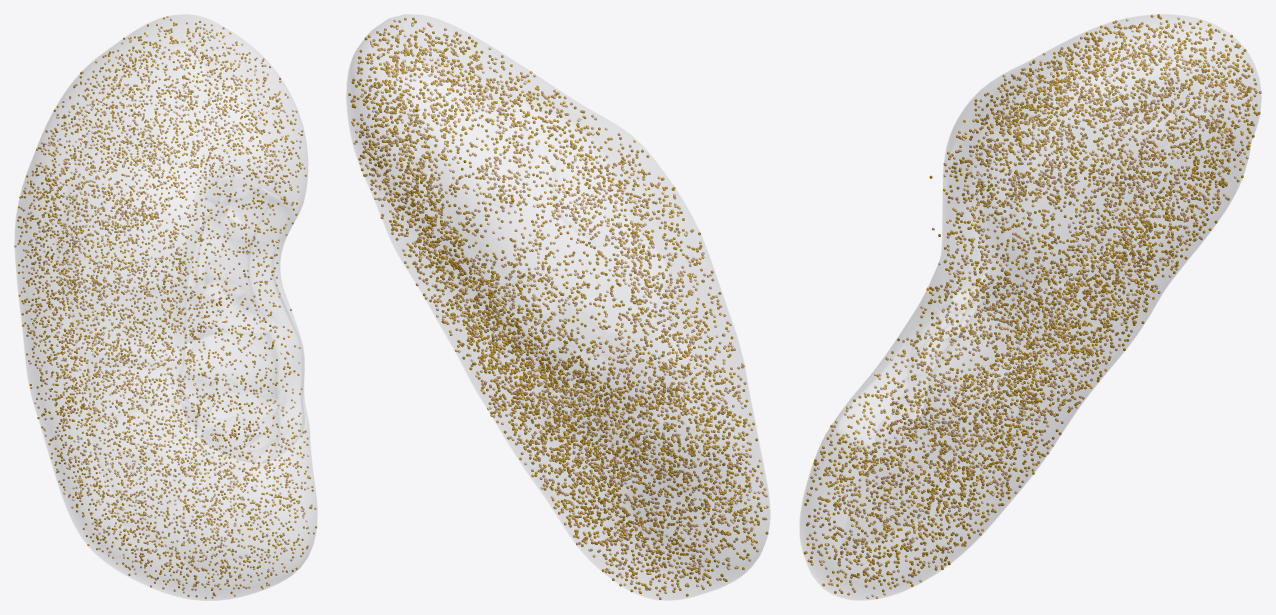
The model's file is 3d-vh-m-kidney-r-UBERON_0004539-all-as-azimuth-sphere-hra-pop.glb.
The picture shows the model from 3 angles, left to right: view 1: azimuth 30°, elevation 25°; view 2: azimuth 150°, elevation 25°; view 3: azimuth 270°, elevation 25°; orthographic projection. The views are drawn at different scales.
Visible parts, largest first — view 1: VH_M_kidney_capsule_R, VH_M_outer_cortex_of_kidney_R, VH_M_hilum_of_kidney_R, VH_M_renal_column_R, VH_M_renal_pyramid_f, VH_M_renal_pyramid_h, VH_M_renal_papilla_R_g; view 2: VH_M_kidney_capsule_R, VH_M_outer_cortex_of_kidney_R; view 3: VH_M_kidney_capsule_R, VH_M_outer_cortex_of_kidney_R, VH_M_hilum_of_kidney_R, VH_M_renal_pyramid_h, VH_M_renal_pyramid_f.
Part boxes in pixels (x1,y1,x2,y2): VH_M_kidney_capsule_R: (15,14,316,600); VH_M_outer_cortex_of_kidney_R: (17,16,311,599); VH_M_hilum_of_kidney_R: (181,174,301,462); VH_M_renal_column_R: (187,179,276,462); VH_M_renal_pyramid_f: (186,268,275,341); VH_M_renal_pyramid_h: (182,383,280,453); VH_M_renal_papilla_R_g: (186,383,211,414); VH_M_kidney_capsule_R: (346,14,770,600); VH_M_outer_cortex_of_kidney_R: (347,16,769,598); VH_M_kidney_capsule_R: (799,14,1261,600); VH_M_outer_cortex_of_kidney_R: (800,16,1260,599); VH_M_hilum_of_kidney_R: (838,129,990,444); VH_M_renal_pyramid_h: (891,371,931,436); VH_M_renal_pyramid_f: (939,286,986,340).
Bounding box in the file's own units: 0.0655 × 0.1125 × 0.0764.
